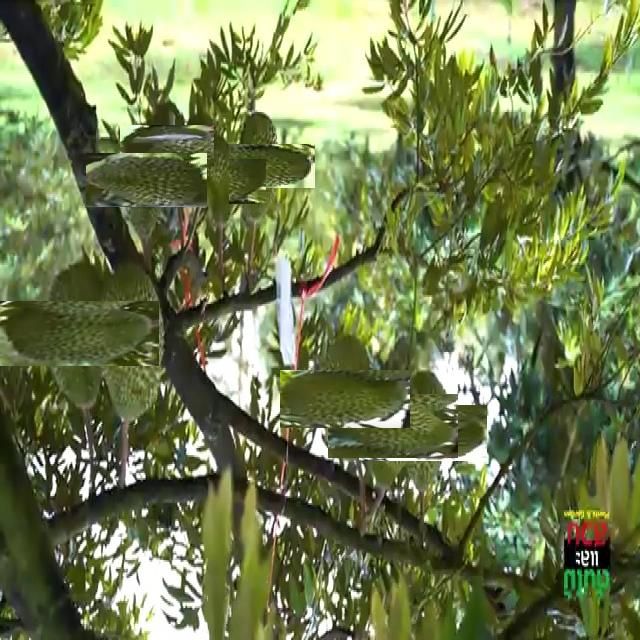durian: (20, 276, 134, 391), (90, 256, 166, 424), (344, 377, 441, 475), (297, 352, 392, 446), (377, 386, 469, 479), (103, 136, 191, 224), (218, 126, 298, 206), (183, 146, 254, 216), (182, 108, 229, 211), (133, 112, 201, 180)
